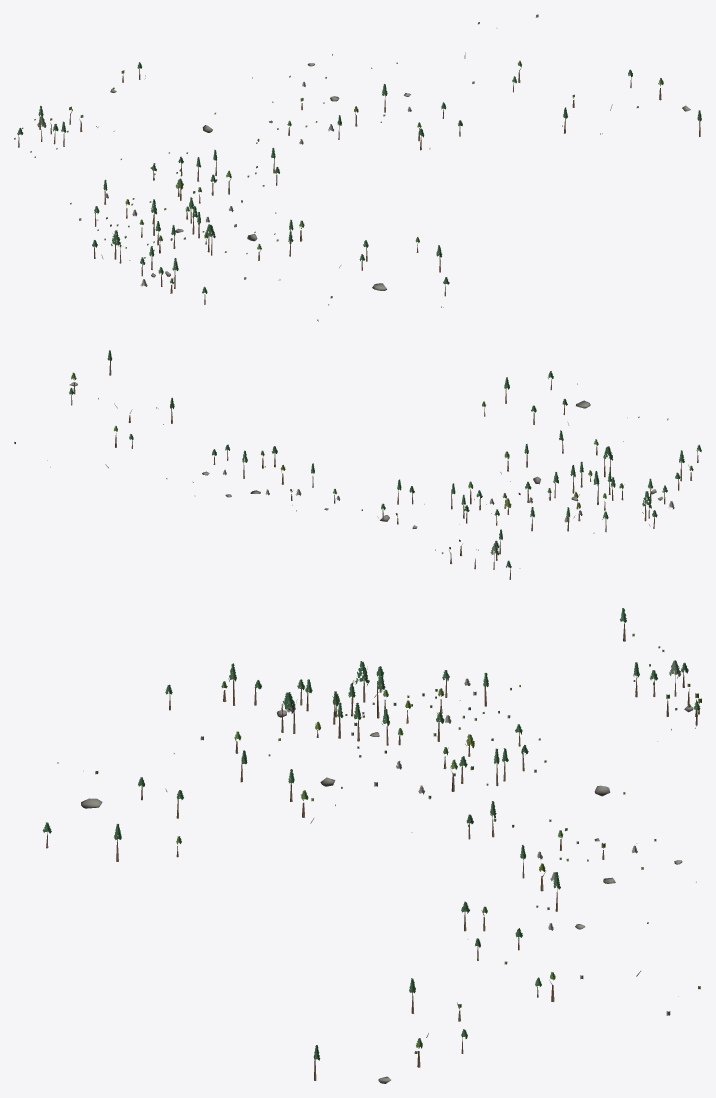
Rendered from arch_land_scatter_c20_20_lod1.glb.
The picture shows the model from 3 angles, top to bottom: view 1: azimuth 30°, elevation 25°; view 2: azimuth 150°, elevation 25°; view 3: azimuth 270°, elevation 25°; orthographic projection. The views are drawn at different scales.
Parts seen in each view (by area): view 1: arch_land_scatter_c20_20_lod1; view 2: arch_land_scatter_c20_20_lod1; view 3: arch_land_scatter_c20_20_lod1.
Part boxes in pixels (bbox=[...]): arch_land_scatter_c20_20_lod1: bbox=[14, 14, 701, 321]; arch_land_scatter_c20_20_lod1: bbox=[14, 350, 701, 579]; arch_land_scatter_c20_20_lod1: bbox=[42, 608, 701, 1083].
Bounding box in the file's own units: 252 × 35.94 × 184.
